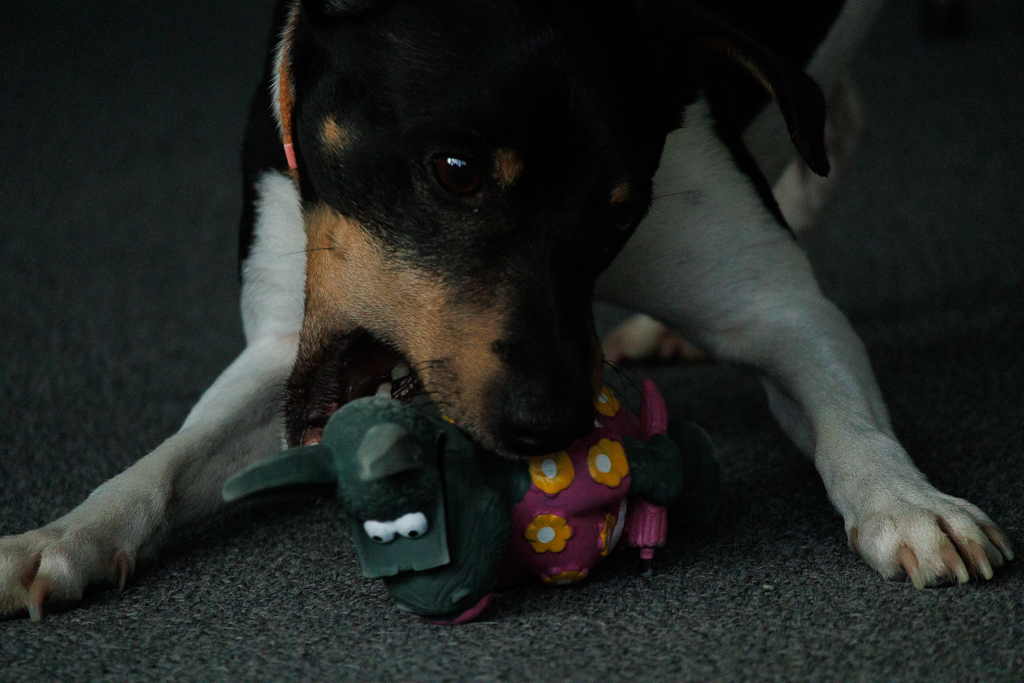Dog: (0, 0, 1024, 630)
Humanoid: (205, 352, 746, 630)
